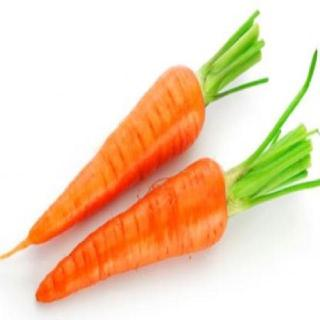carrot: (16, 61, 206, 252), (32, 154, 228, 308)
